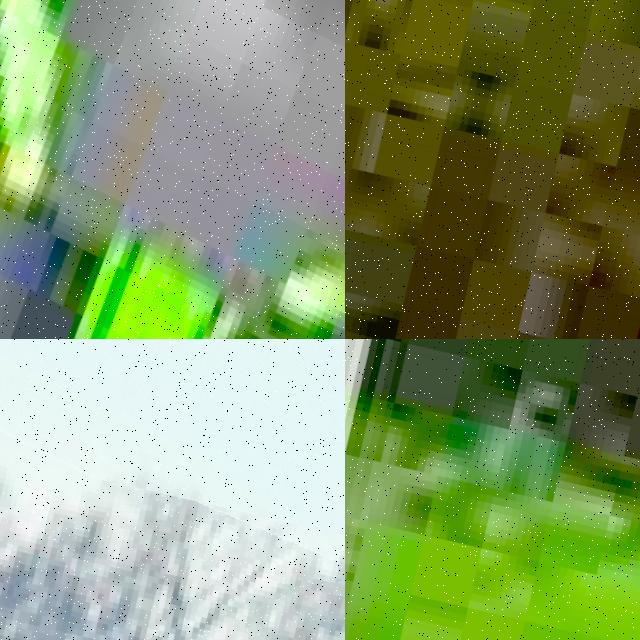drone: (0, 0, 345, 339), (0, 339, 345, 544)
